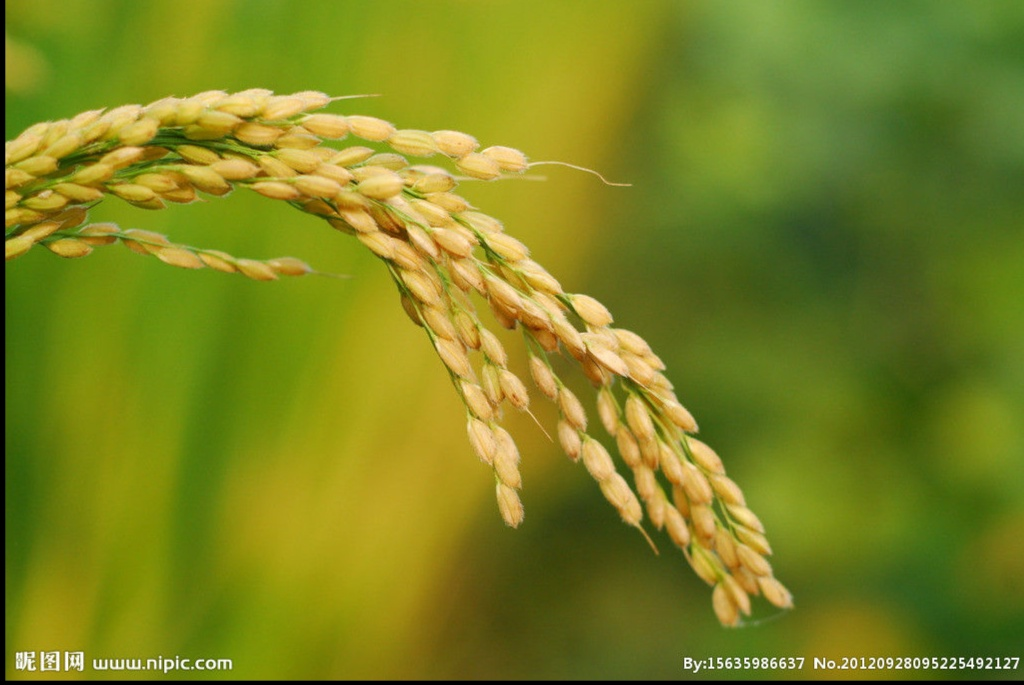rice: (6, 53, 809, 626)
